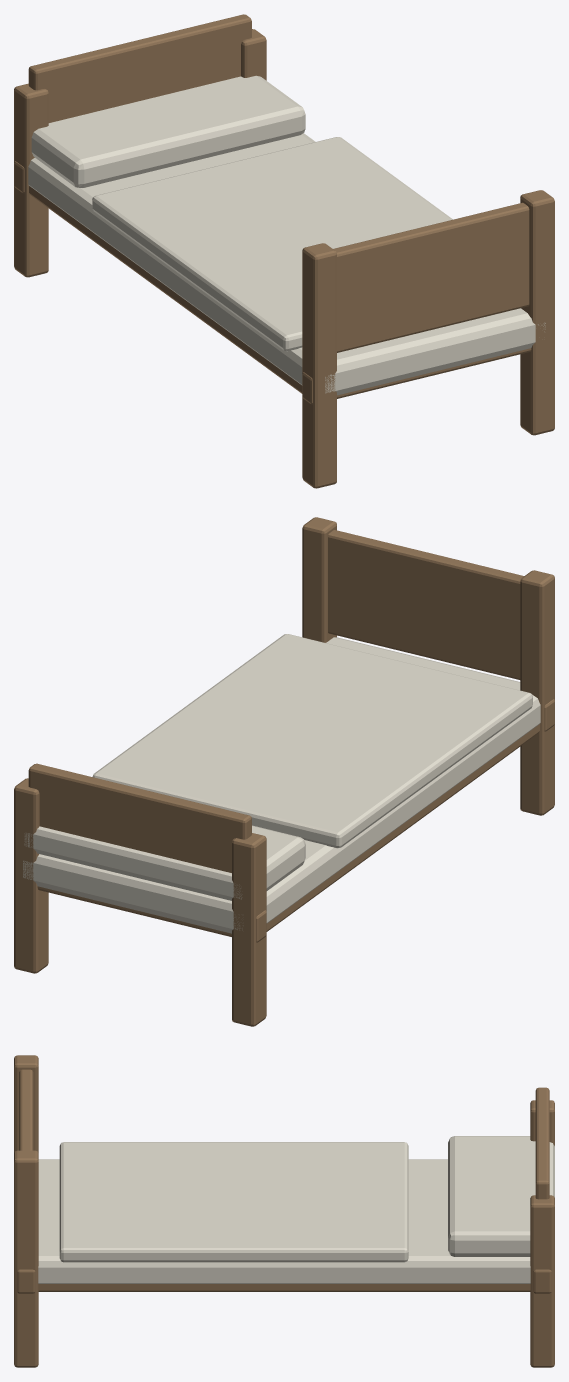
File: dormitory_cot.glb
3 renders of one model, top to bottom at view 1: azimuth 30°, elevation 25°; view 2: azimuth 150°, elevation 25°; view 3: azimuth 270°, elevation 25°, orthographic. The views are drawn at different scales.
Parts seen in each view (by area): view 1: world; view 2: world; view 3: world.
Boxes of the visible parts, left/top/right/bottom form: world: left=14, top=14, right=554, bottom=488; world: left=14, top=517, right=554, bottom=1026; world: left=14, top=1055, right=554, bottom=1367.
Bounding box in the file's own units: 0.9535 × 0.8529 × 2.
Materials: 1 (1 with a texture image).
